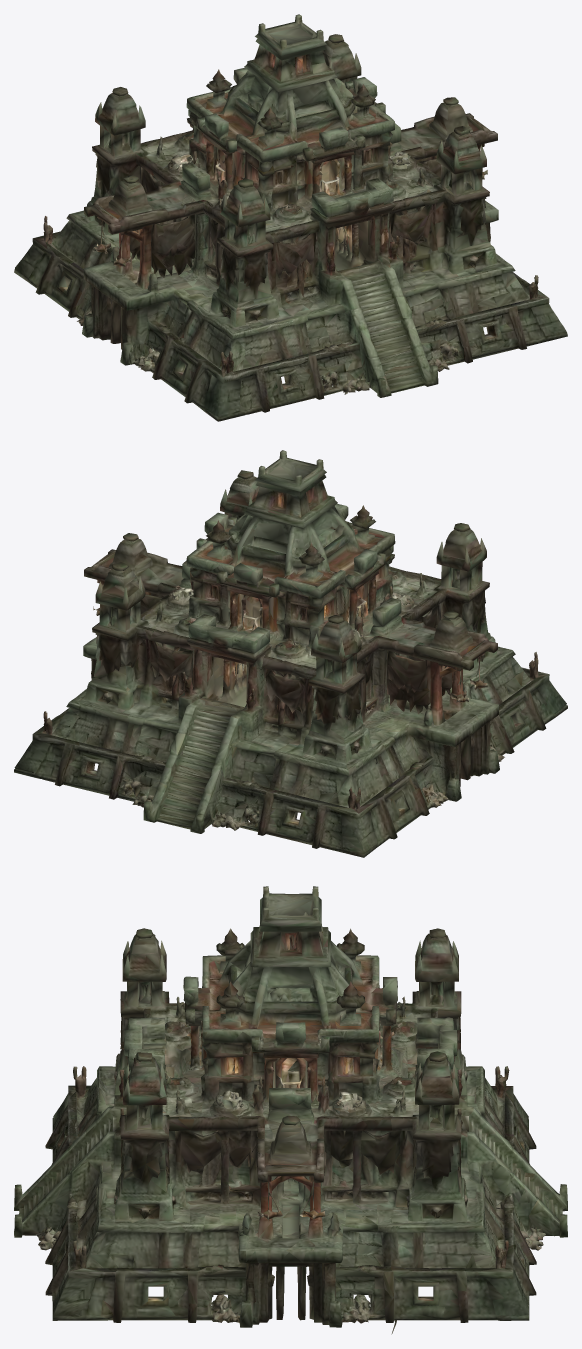
Rendered from A_massive_imperial_pa.glb.
3 views of the same model, one above another, from view 1: azimuth 30°, elevation 25°; view 2: azimuth 150°, elevation 25°; view 3: azimuth 270°, elevation 25° (orthographic). The views are drawn at different scales.
Visible parts, largest first — view 1: A_massive_imperial_pa; view 2: A_massive_imperial_pa; view 3: A_massive_imperial_pa.
Part boxes in pixels (x1,y1,x2,y2): A_massive_imperial_pa: (14, 14, 567, 421); A_massive_imperial_pa: (14, 450, 567, 857); A_massive_imperial_pa: (14, 886, 567, 1334).
Size of the model in its own units: 1.78 by 1.28 by 1.9.
1 material, 1 textured.
